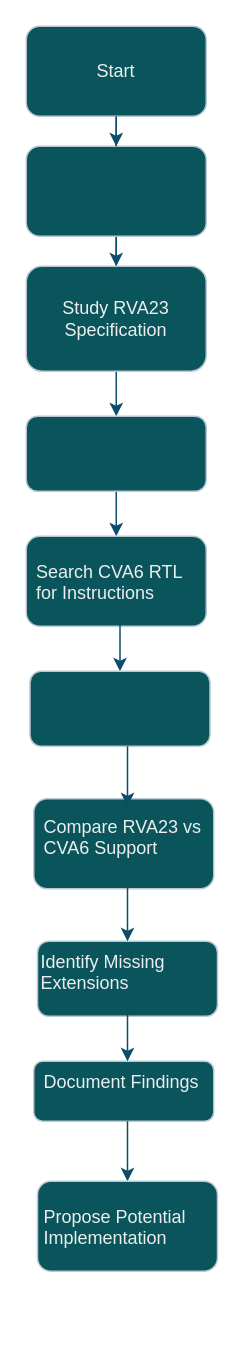
Image size: 248x1356. Some labels were removed from this diagram. The shapes that lost their labels are listed below. From the top down, each one's centre as x and y in pixels, then its label:
At point (115, 190): "Clone CVA6 Repository".
At point (115, 453): "Identify Required Extensions".
At point (119, 708): "Analyze Decoder / ALU / LSU".
